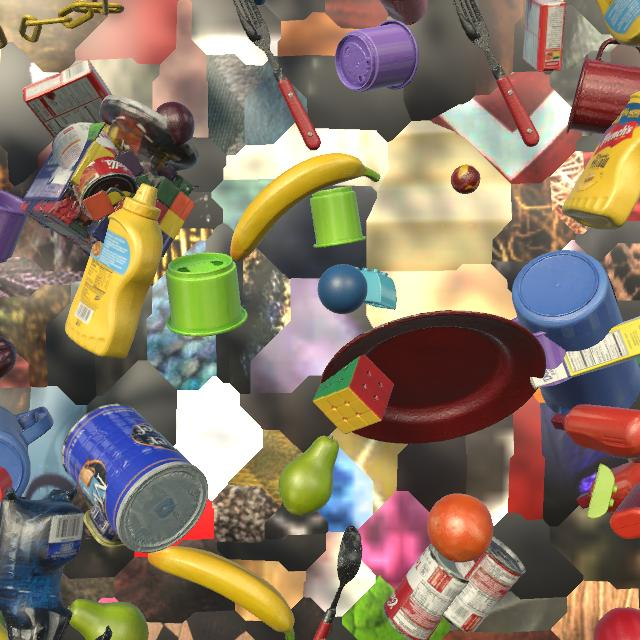ycb_002_master_chef_can: (61, 404, 209, 553)
ycb_004_sugar_box: (530, 316, 640, 389)
ycb_005_tomato_soup_can: (52, 121, 140, 220), (383, 543, 469, 640), (442, 536, 526, 633)
ycb_006_mustard_bottle: (65, 183, 163, 359), (562, 91, 640, 231), (595, 0, 640, 47)
ycb_009_gelatin_box: (22, 59, 112, 138), (522, 0, 566, 72)
ycb_010_potted_meat_can: (84, 506, 125, 548)
ycb_011_banana: (230, 153, 380, 261), (148, 546, 295, 640)
ycb_013_apple: (594, 607, 640, 640)
ycb_016_pear: (278, 435, 339, 516), (68, 599, 149, 640)
ycb_017_orange: (427, 494, 493, 562)
ycb_018_plum: (156, 102, 195, 146), (0, 336, 17, 379)
